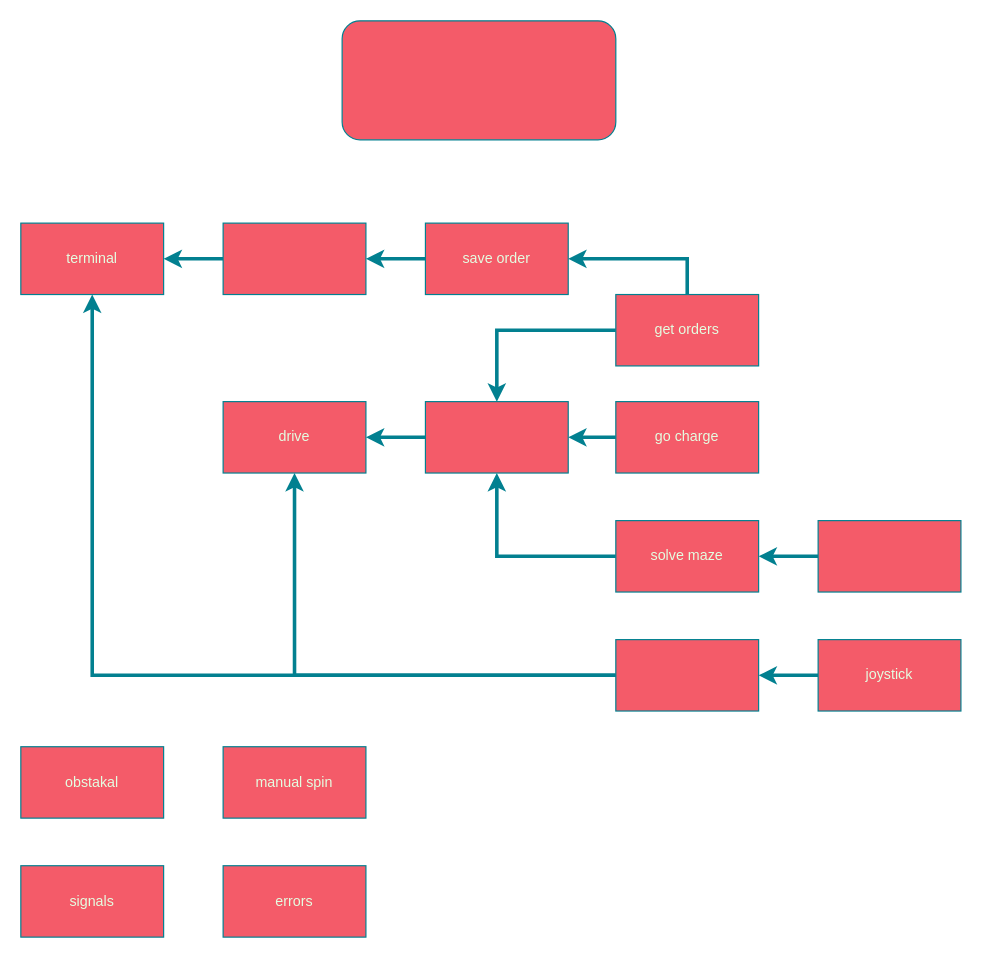
The diagram is 982 pixels wide and 958 high, and some of its shapes have lost their labels. Each missing label, with the centre of its shape:
"follow line" belongs at [496,436].
"manual drive" belongs at [687,674].
"plan maze" belongs at [889,555].
"receive order" belongs at [294,258].
"Software indeling" belongs at [478,80].
